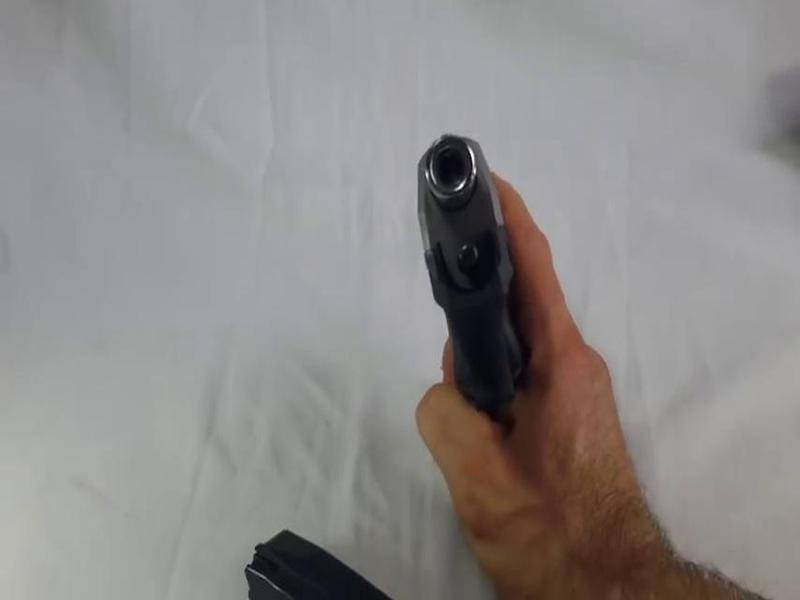Pistola: (365, 103, 576, 462)
